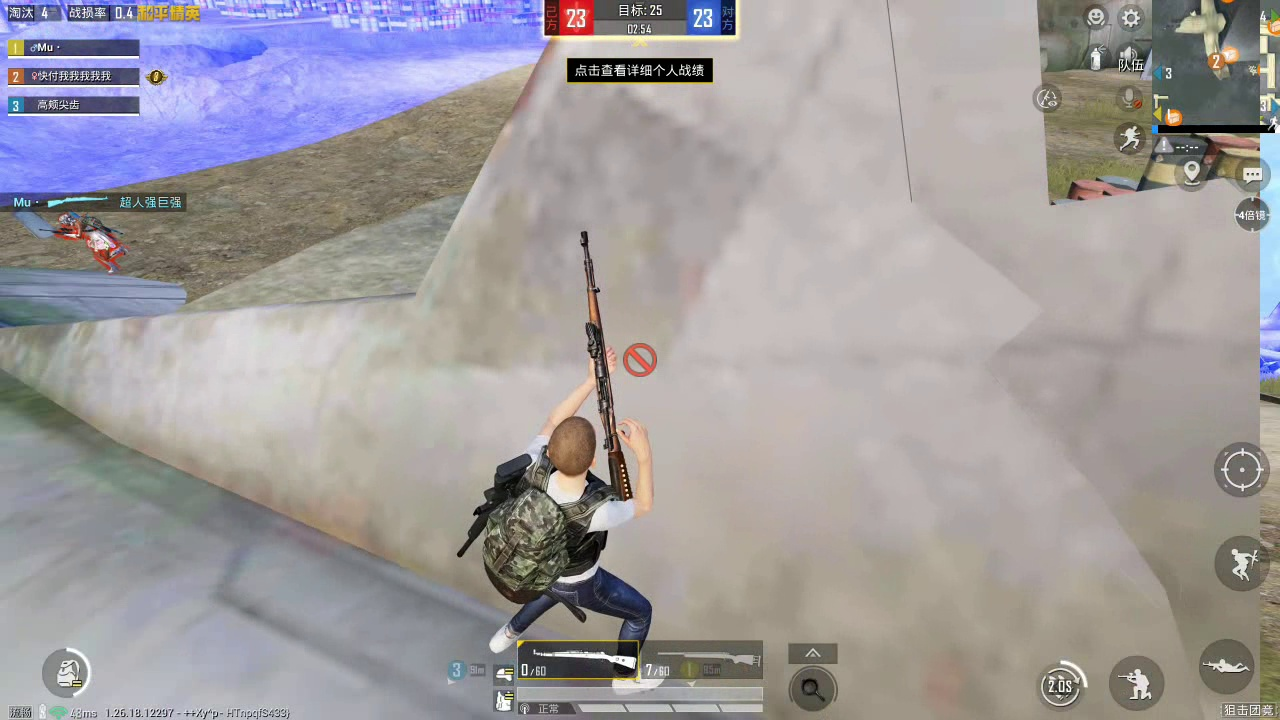enemy: (56, 212, 131, 272)
